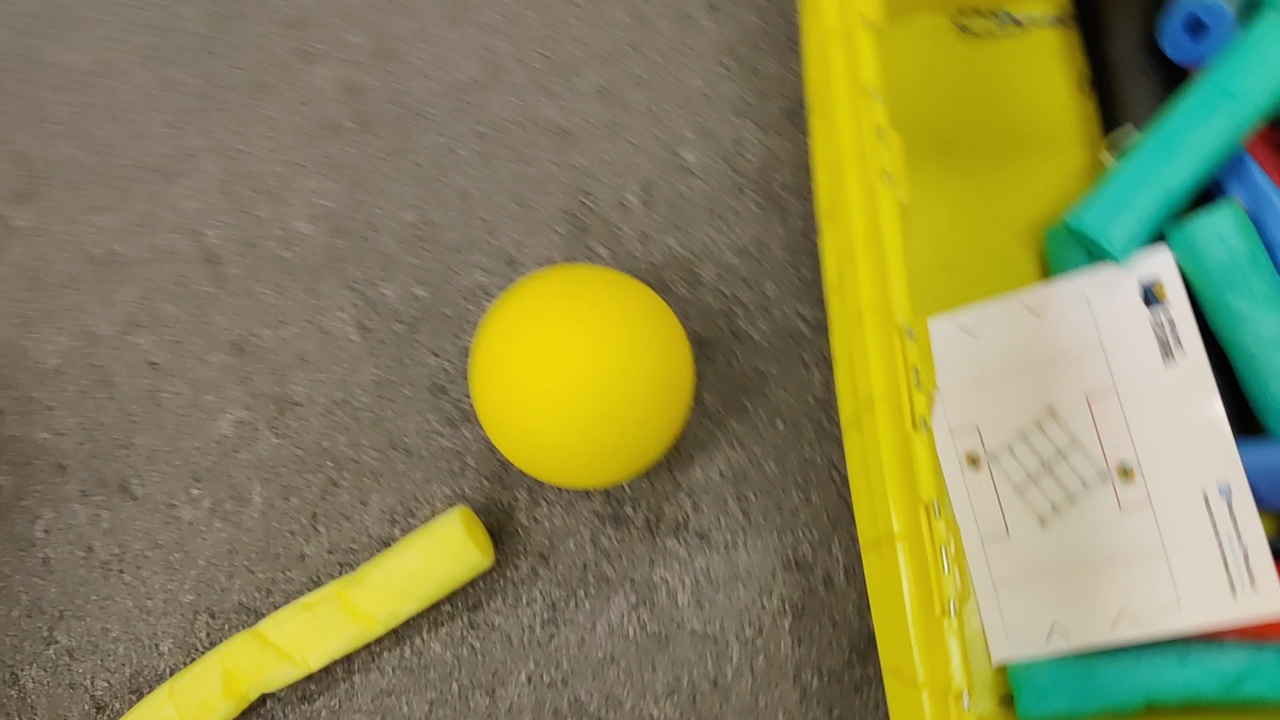Ball: (468, 260, 696, 491)
